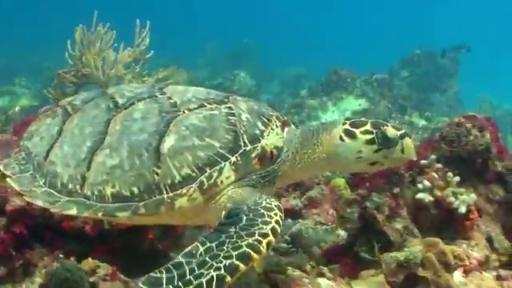Fish: (0, 84, 415, 287)
